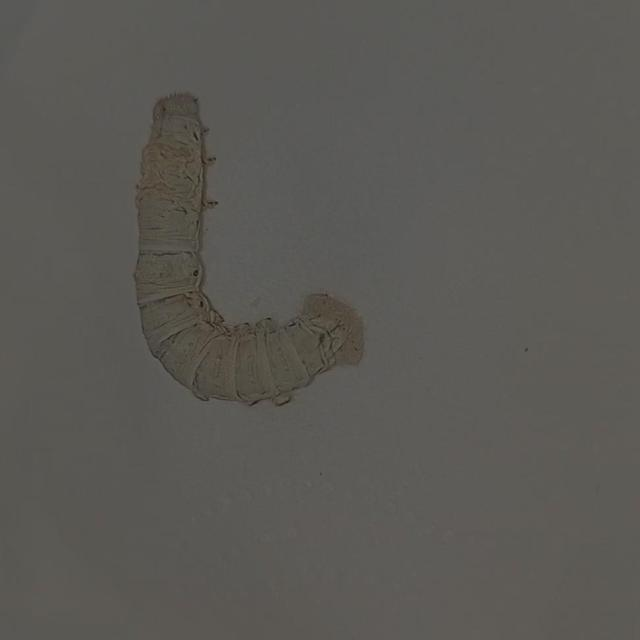Healthy: (124, 79, 378, 431)
